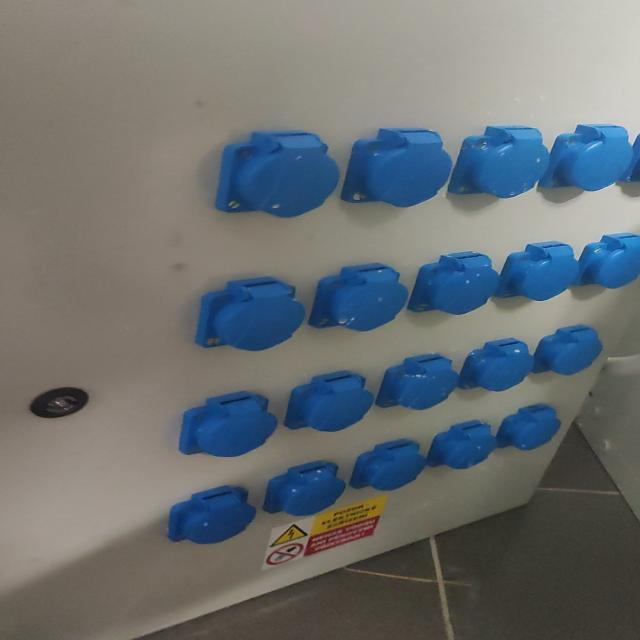house plug covered: (214, 133, 340, 220), (344, 128, 453, 209), (194, 277, 304, 352), (447, 125, 549, 199), (308, 263, 409, 333), (176, 391, 280, 457), (539, 124, 633, 192), (407, 251, 499, 315), (284, 370, 374, 432), (494, 241, 580, 302), (167, 486, 257, 544), (375, 354, 459, 410), (262, 461, 346, 516), (457, 338, 535, 392), (351, 441, 424, 492), (576, 232, 640, 290), (532, 325, 603, 376), (426, 420, 496, 469), (495, 406, 561, 451)
